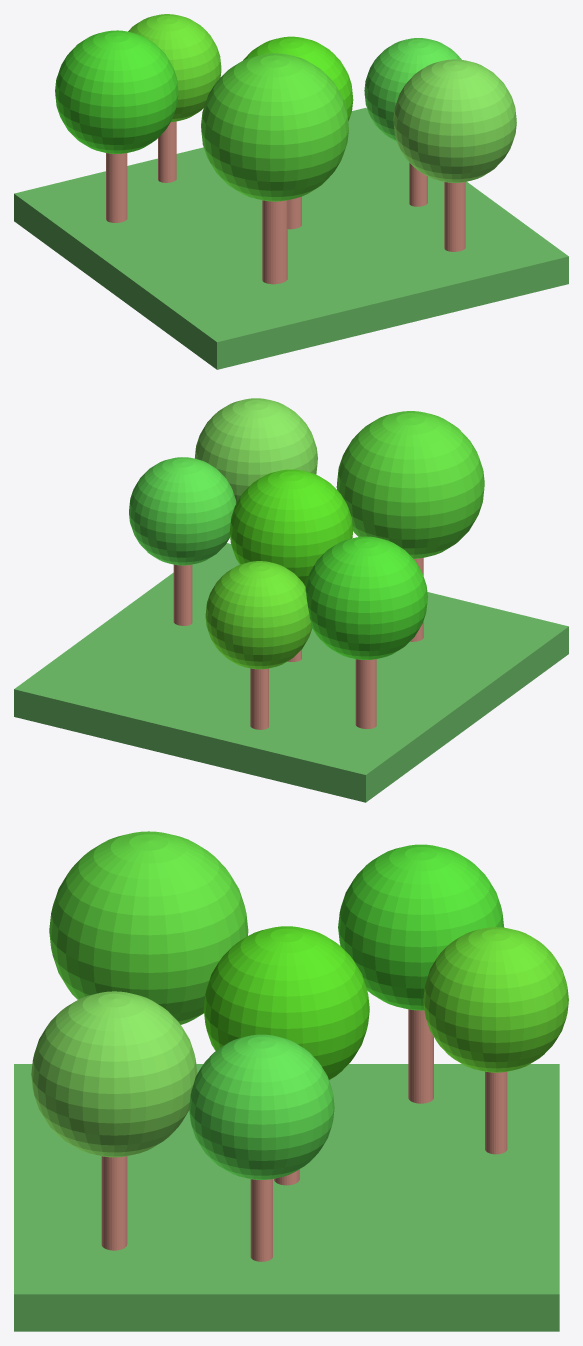
Rendered from trees.fbx.
3 renders of one model, top to bottom at view 1: azimuth 30°, elevation 25°; view 2: azimuth 150°, elevation 25°; view 3: azimuth 270°, elevation 25°, orthographic. The views are drawn at different scales.
Visible parts, largest first — view 1: Ground.005, Sphere.005, Sphere.001, Sphere.003, Sphere.004, Sphere.002, Sphere, Cylinder.005, Cylinder.001, Cylinder.003, Cylinder.004, Cylinder.002 (+1 smaller); view 2: Ground.005, Sphere.005, Sphere.003, Sphere, Sphere.002, Sphere.004, Sphere.001, Cylinder.003, Cylinder.002, Cylinder.004; view 3: Ground.005, Sphere.005, Sphere.001, Sphere.003, Sphere, Sphere.004, Sphere.002, Cylinder.001, Cylinder.003, Cylinder.004, Cylinder.002.
Boxes of the visible parts, bbox=[...] form: Ground.005: bbox=[14, 108, 568, 369]; Sphere.005: bbox=[201, 53, 348, 201]; Sphere.001: bbox=[393, 59, 516, 182]; Sphere.003: bbox=[55, 30, 178, 153]; Sphere.004: bbox=[128, 14, 221, 122]; Sphere.002: bbox=[364, 38, 461, 141]; Sphere: bbox=[243, 36, 353, 121]; Cylinder.005: bbox=[262, 200, 287, 284]; Cylinder.001: bbox=[444, 182, 465, 251]; Cylinder.003: bbox=[106, 153, 127, 222]; Cylinder.004: bbox=[158, 121, 176, 182]; Cylinder.002: bbox=[409, 162, 427, 206]; Ground.005: bbox=[14, 543, 568, 802]; Sphere.005: bbox=[336, 411, 484, 558]; Sphere.003: bbox=[305, 536, 427, 659]; Sphere: bbox=[229, 469, 353, 586]; Sphere.002: bbox=[129, 457, 236, 565]; Sphere.004: bbox=[205, 561, 312, 669]; Sphere.001: bbox=[194, 398, 317, 503]; Cylinder.003: bbox=[355, 659, 376, 728]; Cylinder.002: bbox=[173, 564, 192, 625]; Cylinder.004: bbox=[250, 668, 268, 729]; Ground.005: bbox=[14, 1064, 559, 1331]; Sphere.005: bbox=[49, 831, 248, 1024]; Sphere.001: bbox=[31, 991, 197, 1157]; Sphere.003: bbox=[338, 844, 504, 1010]; Sphere: bbox=[203, 926, 369, 1079]; Sphere.004: bbox=[423, 927, 568, 1072]; Sphere.002: bbox=[189, 1034, 334, 1179]; Cylinder.001: bbox=[101, 1156, 127, 1250]; Cylinder.003: bbox=[408, 1009, 433, 1103]; Cylinder.004: bbox=[485, 1071, 507, 1154]; Cylinder.002: bbox=[250, 1179, 272, 1261].
Size of the model in its own units: 805 by 536 by 814.
